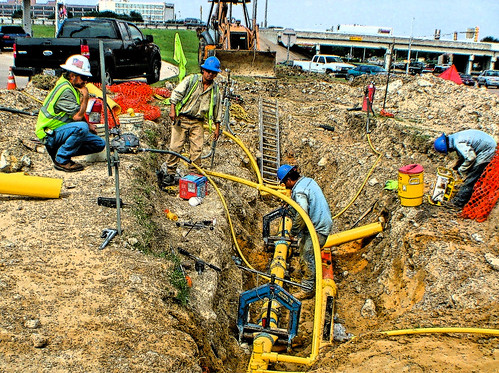person hardhat: (34, 55, 119, 173), (274, 161, 330, 298), (172, 54, 226, 188), (432, 131, 499, 226)
